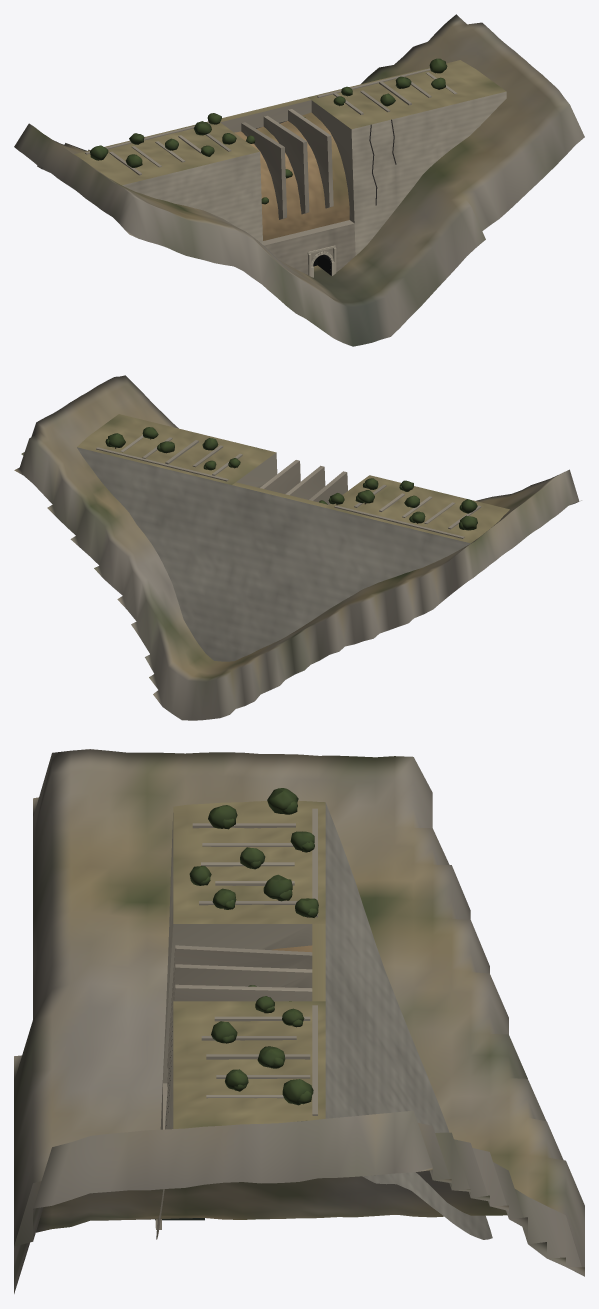
3 views of the same model, one above another, from view 1: azimuth 30°, elevation 25°; view 2: azimuth 150°, elevation 25°; view 3: azimuth 270°, elevation 25° (orthographic). The views are drawn at different scales.
Visible parts, largest first — view 1: roca, presa_de_el_gasco, encinas; view 2: presa_de_el_gasco, roca, encinas; view 3: roca, presa_de_el_gasco, encinas.
Part boxes in pixels (bbox=[...]): roca: bbox=[14, 14, 584, 346]; presa_de_el_gasco: bbox=[74, 60, 506, 277]; encinas: bbox=[90, 58, 447, 204]; presa_de_el_gasco: bbox=[77, 414, 509, 661]; roca: bbox=[14, 375, 581, 720]; encinas: bbox=[105, 427, 477, 530]; roca: bbox=[14, 749, 584, 1293]; presa_de_el_gasco: bbox=[155, 800, 492, 1239]; encinas: bbox=[189, 788, 318, 1105].
Bounding box in the file's own units: 192 × 79.31 × 120.
